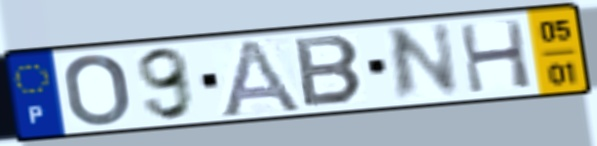9: (132, 45, 198, 124)
A: (216, 36, 306, 120)
B: (291, 33, 367, 110)
H: (455, 17, 536, 96)
N: (385, 20, 464, 105)
O: (60, 51, 133, 129)
